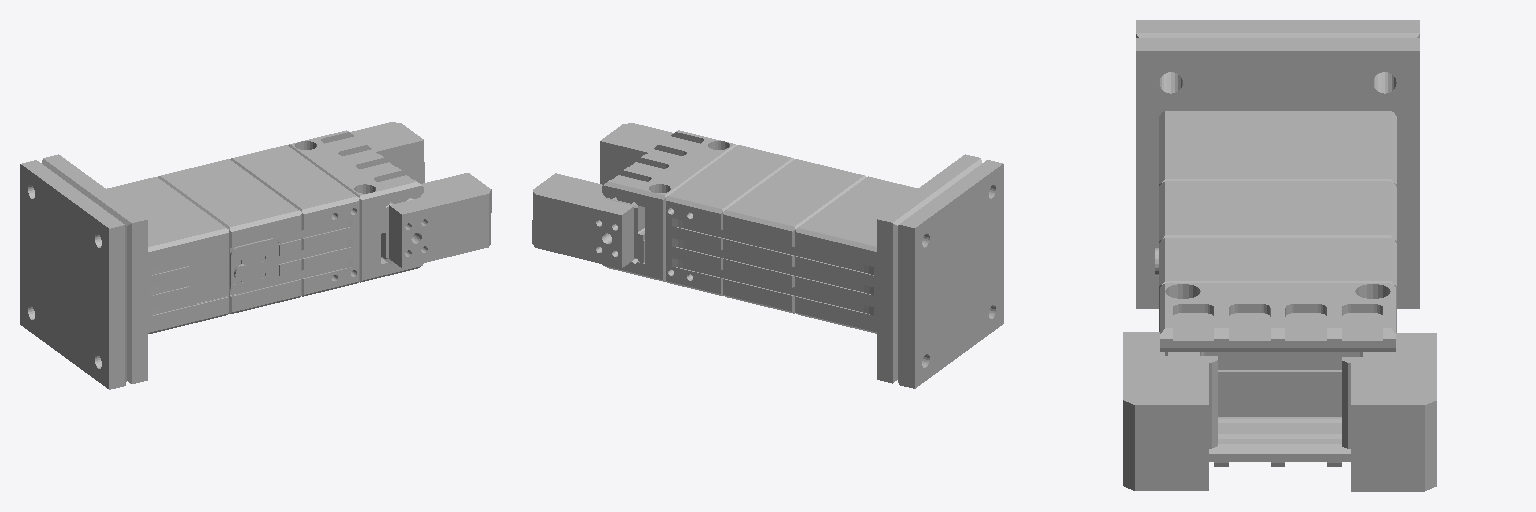
The robot description file, URDF, robot "gripper":
<robot name="gripper">
    <link name="flange">
    <visual>
      <origin rpy="0 0 0" xyz="0 0 0"/>
      <geometry>
        <mesh filename="package://fanuc_lrmate200id_support/meshes/lrmate200id/visual/gripper.stl" scale="0.001 0.001 0.001"/>
      </geometry>
      <material name="">
        <color rgba="0.75 0.75 0.75 1.0"/>
      </material>
    </visual>
    <collision>
      <origin rpy="0 0 0" xyz="0 0 0"/>
      <geometry>
        <mesh filename="package://fanuc_lrmate200id_support/meshes/lrmate200id/collision/gripper.stl" scale="0.001 0.001 0.001"/>
      </geometry>
    </collision>
    <inertial>
      <mass value="0.1"/>
      <origin rpy="0 0 0" xyz="0 0 0"/>
      <inertia ixx="6e-06" ixy="0" ixz="0" iyy="6e-06" iyz="0" izz="6e-06"/>
    </inertial>
  </link>
  <link name="left_finger">
    <visual>
      <origin rpy="0 0 0" xyz="0 0 0"/>
      <geometry>
        <mesh filename="package://fanuc_lrmate200id_support/meshes/lrmate200id/visual/left_finger.stl" scale="0.001 0.001 0.001"/>
      </geometry>
      <material name="">
        <color rgba="0.75 0.75 0.75 1.0"/>
      </material>
    </visual>
    <collision>
      <origin rpy="0 0 0" xyz="0 0 0"/>
      <geometry>
        <mesh filename="package://fanuc_lrmate200id_support/meshes/lrmate200id/collision/left_finger.stl" scale="0.001 0.001 0.001"/>
      </geometry>
    </collision>
    <inertial>
      <mass value="0.01"/>
      <origin rpy="0 0 0" xyz="0 0 0"/>
      <inertia ixx="6e-06" ixy="0" ixz="0" iyy="6e-06" iyz="0" izz="6e-06"/>
    </inertial>
  </link>
  <link name="right_finger">
    <visual>
      <origin rpy="0 0 0" xyz="0 0 0"/>
      <geometry>
        <mesh filename="package://fanuc_lrmate200id_support/meshes/lrmate200id/visual/right_finger.stl" scale="0.001 0.001 0.001"/>
      </geometry>
      <material name="">
        <color rgba="0.75 0.75 0.75 1.0"/>
      </material>
    </visual>
    <collision>
      <origin rpy="0 0 0" xyz="0 0 0"/>
      <geometry>
        <mesh filename="package://fanuc_lrmate200id_support/meshes/lrmate200id/collision/right_finger.stl" scale="0.001 0.001 0.001"/>
      </geometry>
    </collision>
    <inertial>
      <mass value="0.01"/>
      <origin rpy="0 0 0" xyz="0 0 0"/>
      <inertia ixx="6e-06" ixy="0" ixz="0" iyy="6e-06" iyz="0" izz="6e-06"/>
    </inertial>
  </link>
  <joint name="finger_joint1" type="prismatic">
    <parent link="flange"/>
    <child link="left_finger"/>
    <origin rpy="0 0 0" xyz="0.088 0 0"/>
    <axis xyz="0 -1 0"/>
    <dynamics damping="1.0"/>
    <limit effort="10" lower="0.0" upper="0.015" velocity="0.2"/>
  </joint>
  <joint name="finger_joint2" type="prismatic">
    <parent link="flange"/>
    <child link="right_finger"/>
    <origin rpy="0 0 0" xyz="0.088 0 0"/>
    <axis xyz="0 1 0"/>
    <dynamics damping="1.0"/>
    <limit effort="10" lower="0.0" upper="0.015" velocity="0.2"/>
    <mimic joint="finger_joint1"/>
  </joint>
</robot>

--- What the picture shows (computed from the rendered views, not written in the file) ---
3 views of the same robot in one strip: view 1: azimuth 30°, elevation 25°; view 2: azimuth 150°, elevation 25°; view 3: azimuth 270°, elevation 25° (orthographic).
Model gripper with 3 links and 2 joints (2 prismatic), rooted at flange, posed every joint at zero.
Visible links, largest first — view 1: flange, right_finger, left_finger; view 2: flange, left_finger, right_finger; view 3: flange, left_finger, right_finger.
Link boxes in pixels (<box>): flange: <box>20,130,423,389</box>; right_finger: <box>381,173,491,267</box>; left_finger: <box>350,122,424,183</box>; flange: <box>602,130,1003,388</box>; left_finger: <box>532,173,644,268</box>; right_finger: <box>600,123,673,184</box>; flange: <box>1136,20,1419,466</box>; left_finger: <box>1218,333,1436,491</box>; right_finger: <box>1123,332,1359,490</box>.
Size in the robot's own frame: 0.1192 by 0.0528 by 0.048 metres.
Meshes: 3 distinct files referenced, 3 mesh visuals loaded (3 binary STL).
